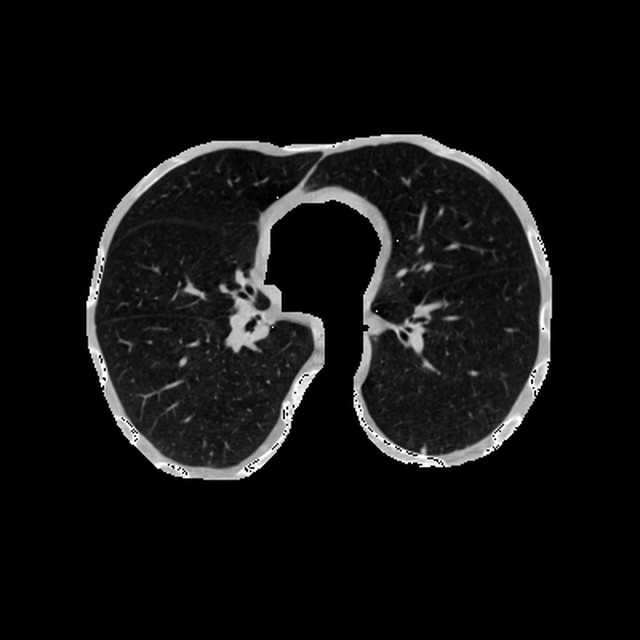PN: (419, 446, 426, 453)
